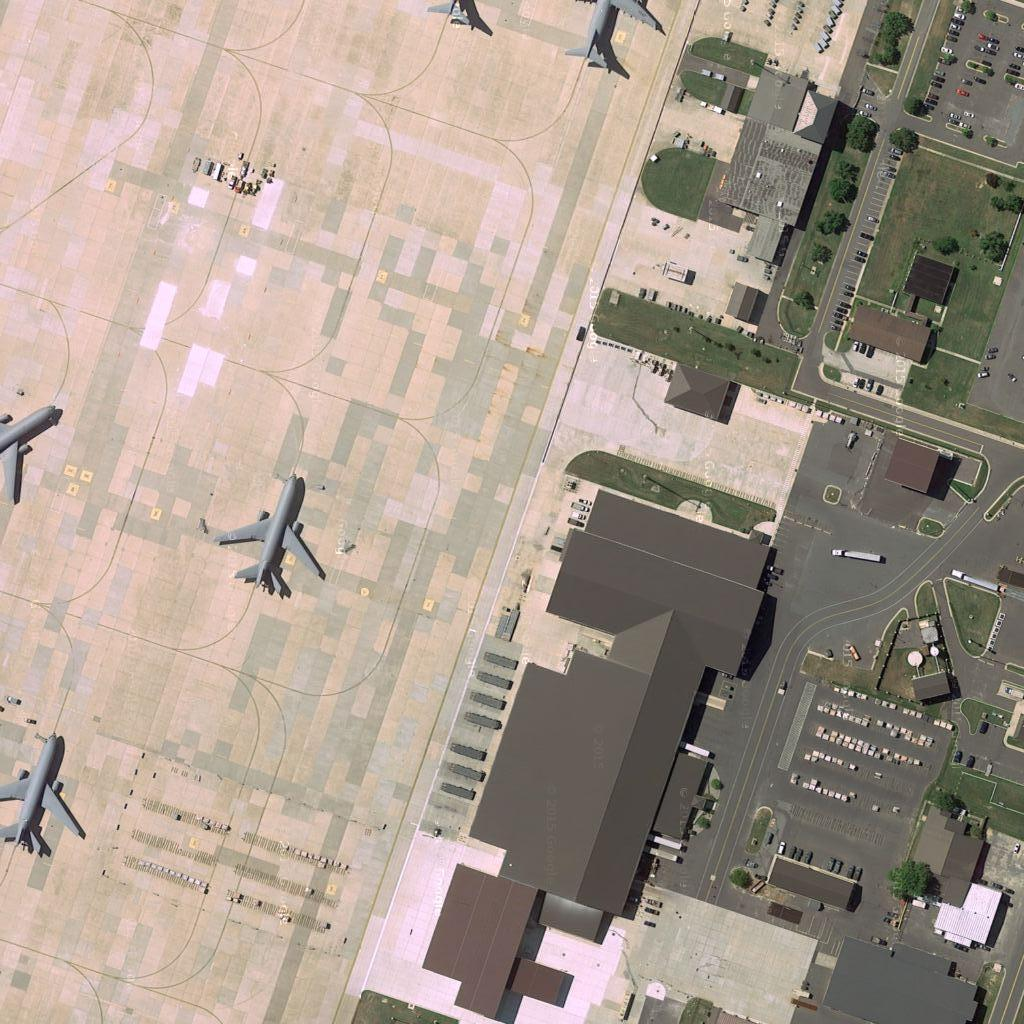KC-10: (215, 470, 334, 604), (2, 723, 98, 863)
